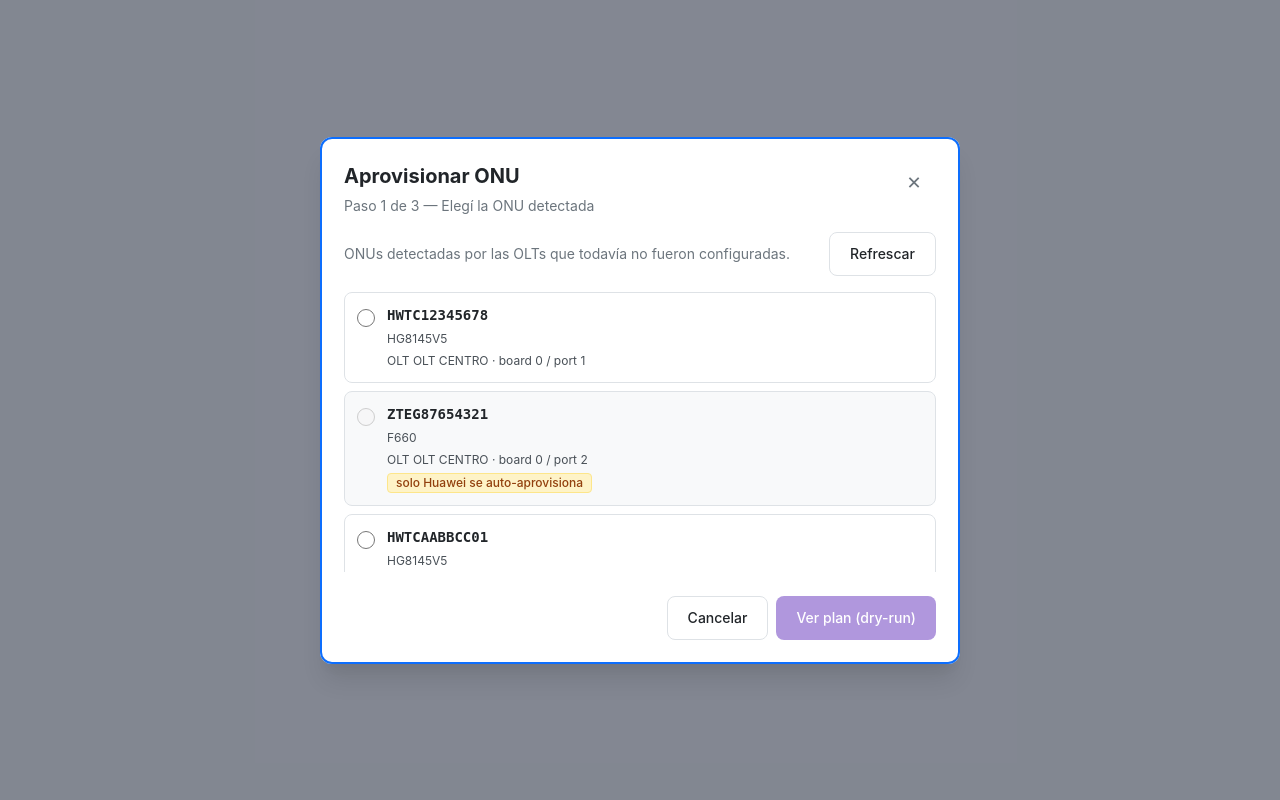
ProvisionOnuModal — paso 1 (picker) › vlanRequired sin VLAN tipeada: error de validación y NO postea
Click the radio button labelled "HWTCAABBCC01 HG8145V5 OLT CHIVILCOY · board 1 / port 3" at (366, 540), box [357, 530, 375, 548]
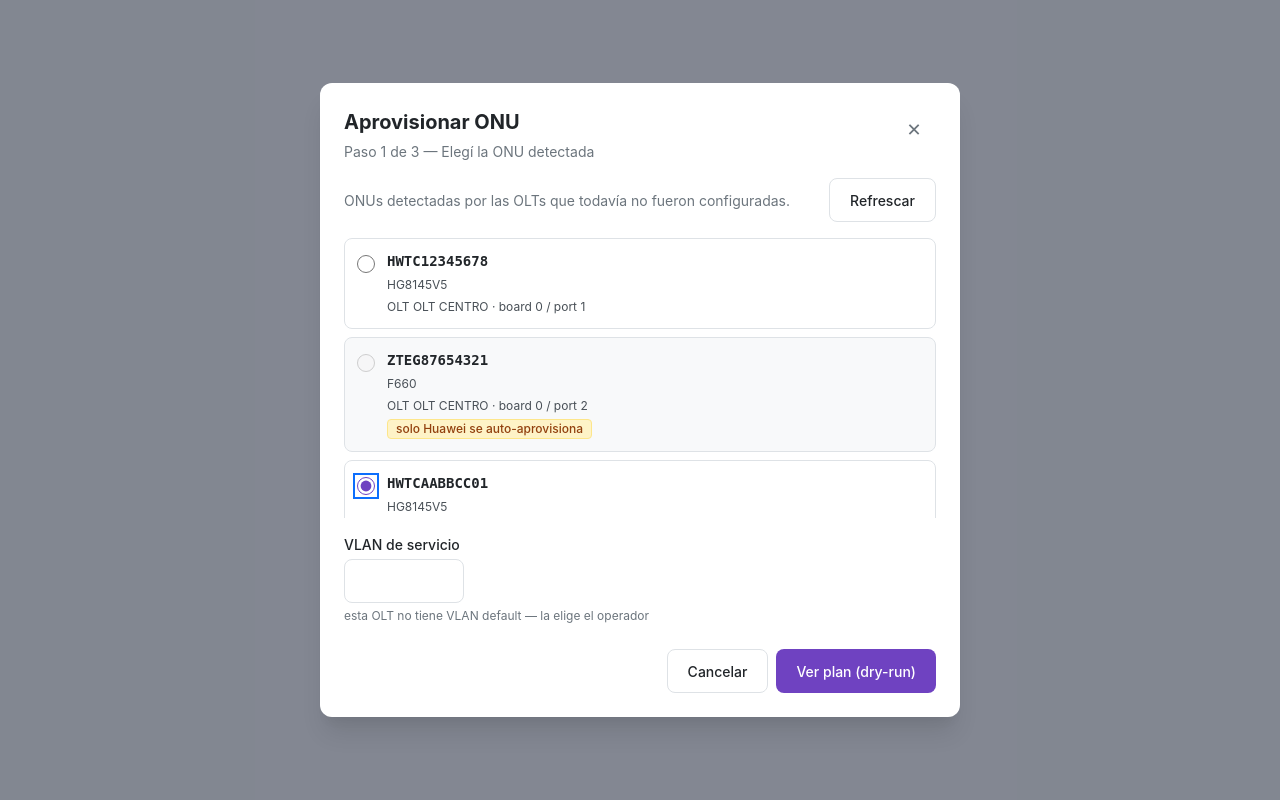
Click the button "Ver plan (dry-run)" at (856, 671), box [776, 649, 936, 693]
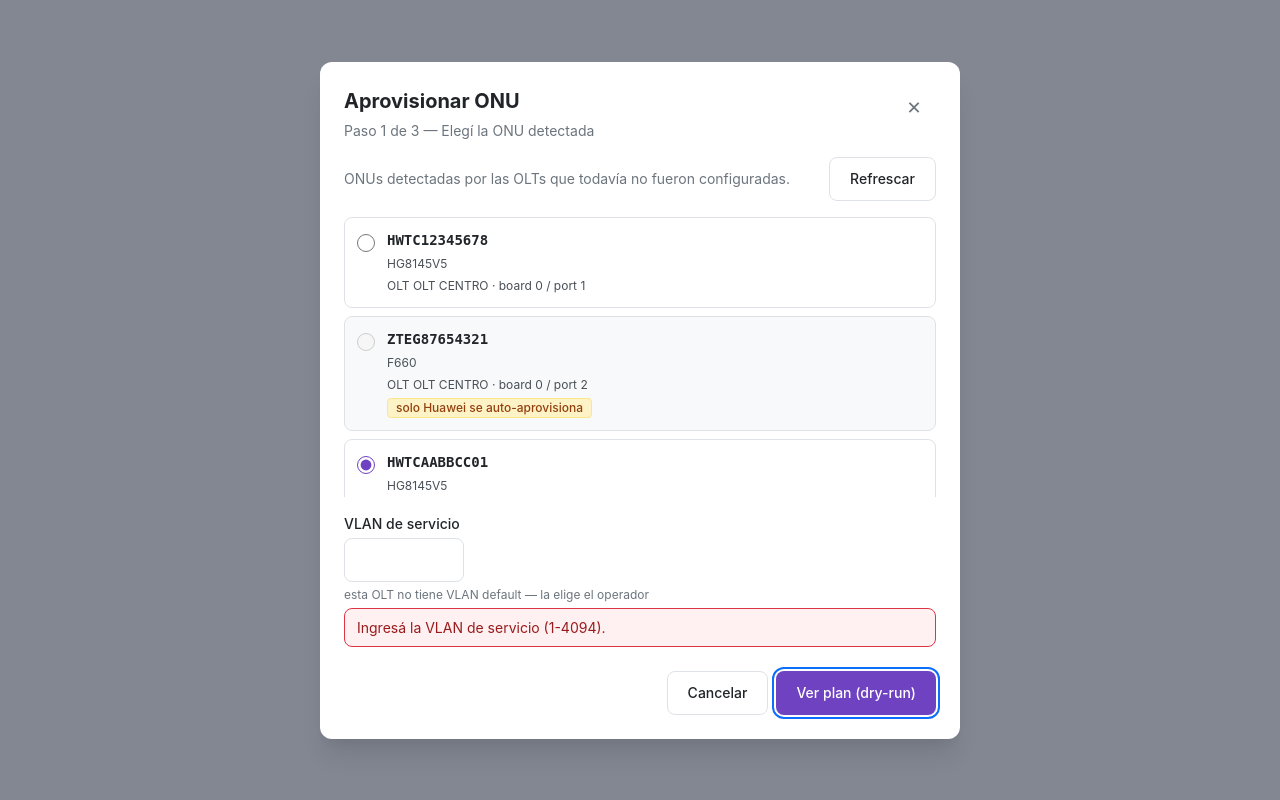
Check: the message shows "Ingresá la VLAN", box [357, 618, 606, 636]
